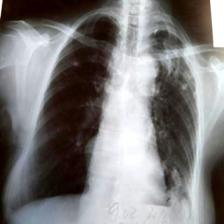tuberculosis: (7, 9, 202, 221)
